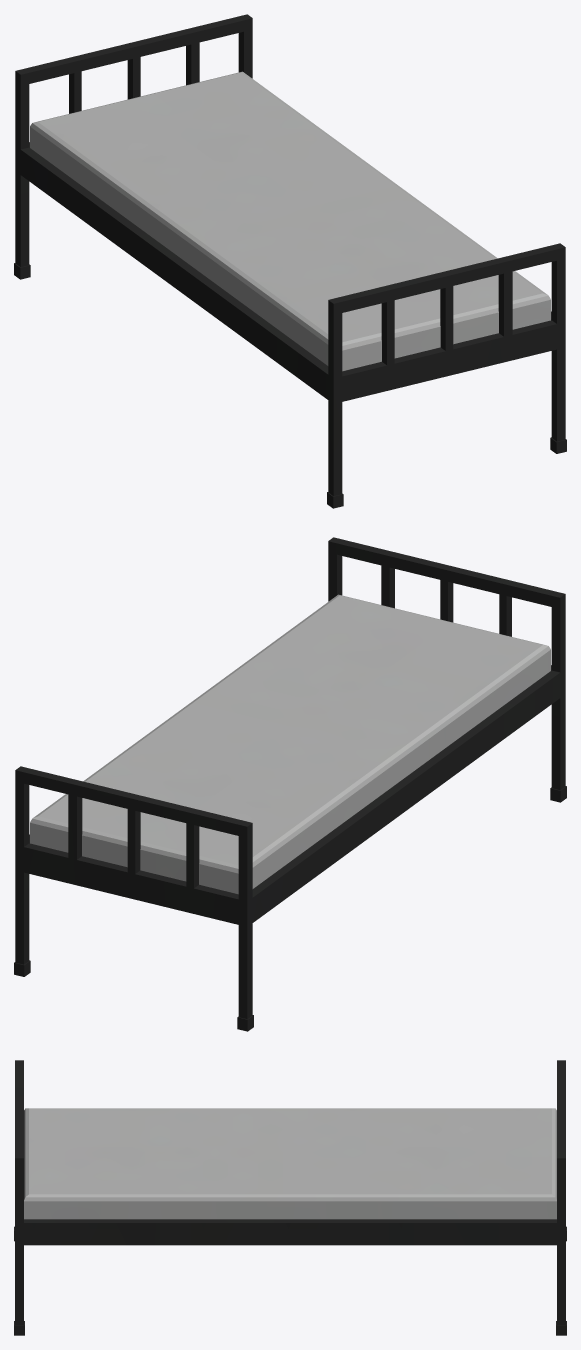
File: Bed.fbx
3 views of the same model, one above another, from view 1: azimuth 30°, elevation 25°; view 2: azimuth 150°, elevation 25°; view 3: azimuth 270°, elevation 25° (orthographic). The views are drawn at different scales.
Parts seen in each view (by area): view 1: Bed; view 2: Bed; view 3: Bed.
Boxes of the visible parts, left/top/right/bottom form: Bed: left=14, top=14, right=566, bottom=508; Bed: left=14, top=537, right=566, bottom=1031; Bed: left=14, top=1060, right=566, bottom=1335.
Size of the model in its own units: 98.23 by 82.01 by 232.
